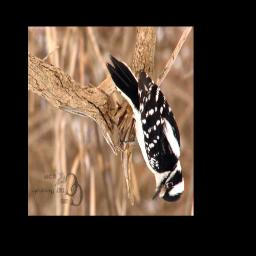Woodpecker: (105, 51, 185, 203)
